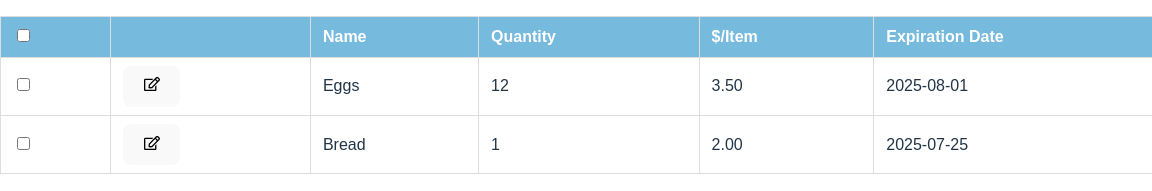
Test: List › checks to see if the checkboxes are being checked or not
Check: the checkbox named "Toggle All Rows Selected" is not checked, box [17,29,30,42]
Check: the checkbox named "Toggle Row Selected" in the row of "Eggs" is not checked, box [17,78,30,91]
Click the checkbox named "Toggle Row Selected" in the row of "Bread".
click(24, 143)  # box [17,137,30,150]
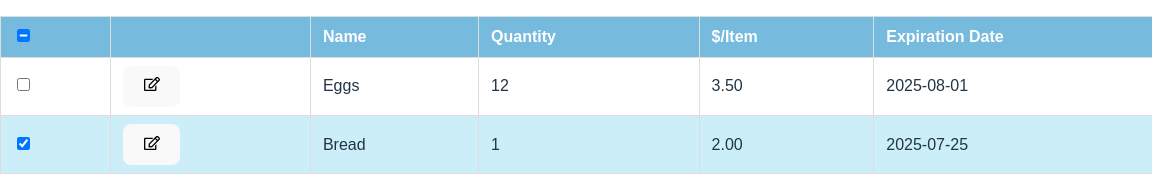
Check: the checkbox named "Toggle All Rows Selected" is not checked, box [17,29,30,42]
Check: the checkbox named "Toggle Row Selected" in the row of "Bread" is checked
Click the checkbox named "Toggle Row Selected" in the row of "Bread".
click(24, 143)  # box [17,137,30,150]
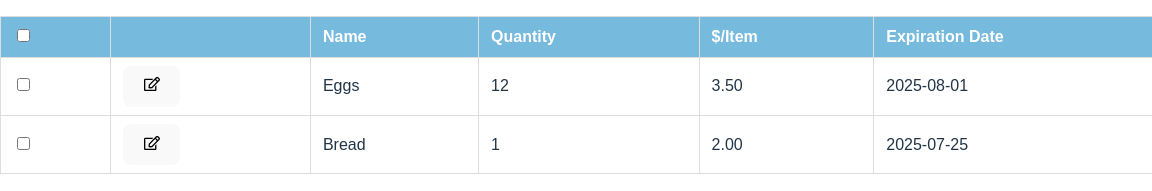
Click the checkbox named "Toggle All Rows Selected".
click(24, 35)  # box [17,29,30,42]
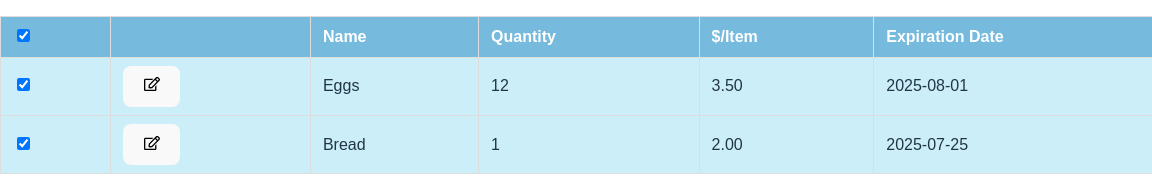
Check: the checkbox named "Toggle All Rows Selected" is checked
Check: the checkbox named "Toggle Row Selected" in the row of "Bread" is checked, box [17,137,30,150]
Check: the checkbox named "Toggle Row Selected" in the row of "Eggs" is checked, box [17,78,30,91]
Click the checkbox named "Toggle All Rows Selected".
click(24, 35)  # box [17,29,30,42]
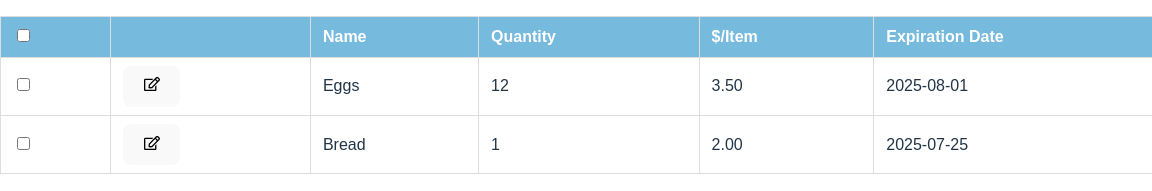
Check: the checkbox named "Toggle All Rows Selected" is not checked, box [17,29,30,42]
Check: the checkbox named "Toggle Row Selected" in the row of "Bread" is not checked, box [17,137,30,150]
Check: the checkbox named "Toggle Row Selected" in the row of "Eggs" is not checked, box [17,78,30,91]
